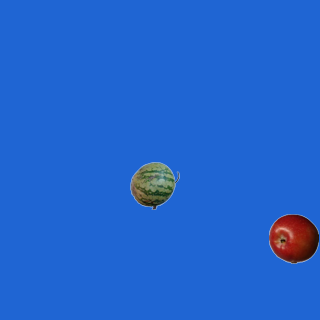Apple Braeburn: (268, 213, 318, 263)
Watermelon: (129, 160, 179, 210)
